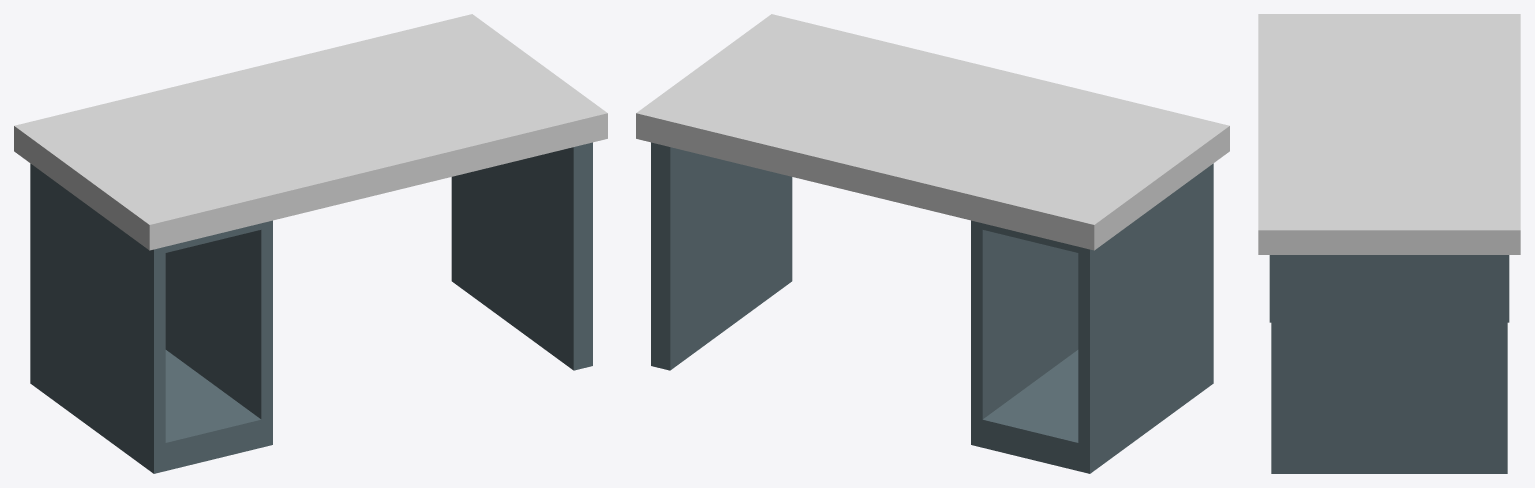
The model's file is DeskV1Light.fbx.
The picture shows the model from 3 angles, left to right: view 1: azimuth 30°, elevation 25°; view 2: azimuth 150°, elevation 25°; view 3: azimuth 270°, elevation 25°; orthographic projection. The views are drawn at different scales.
Parts seen in each view (by area): view 1: DeskV1Light; view 2: DeskV1Light; view 3: DeskV1Light.
Boxes of the visible parts, left/top/right/bottom form: DeskV1Light: left=14, top=14, right=607, bottom=473; DeskV1Light: left=636, top=14, right=1229, bottom=473; DeskV1Light: left=1258, top=14, right=1520, bottom=473.
Bounding box in the file's own units: 150 × 80 × 76.84.
